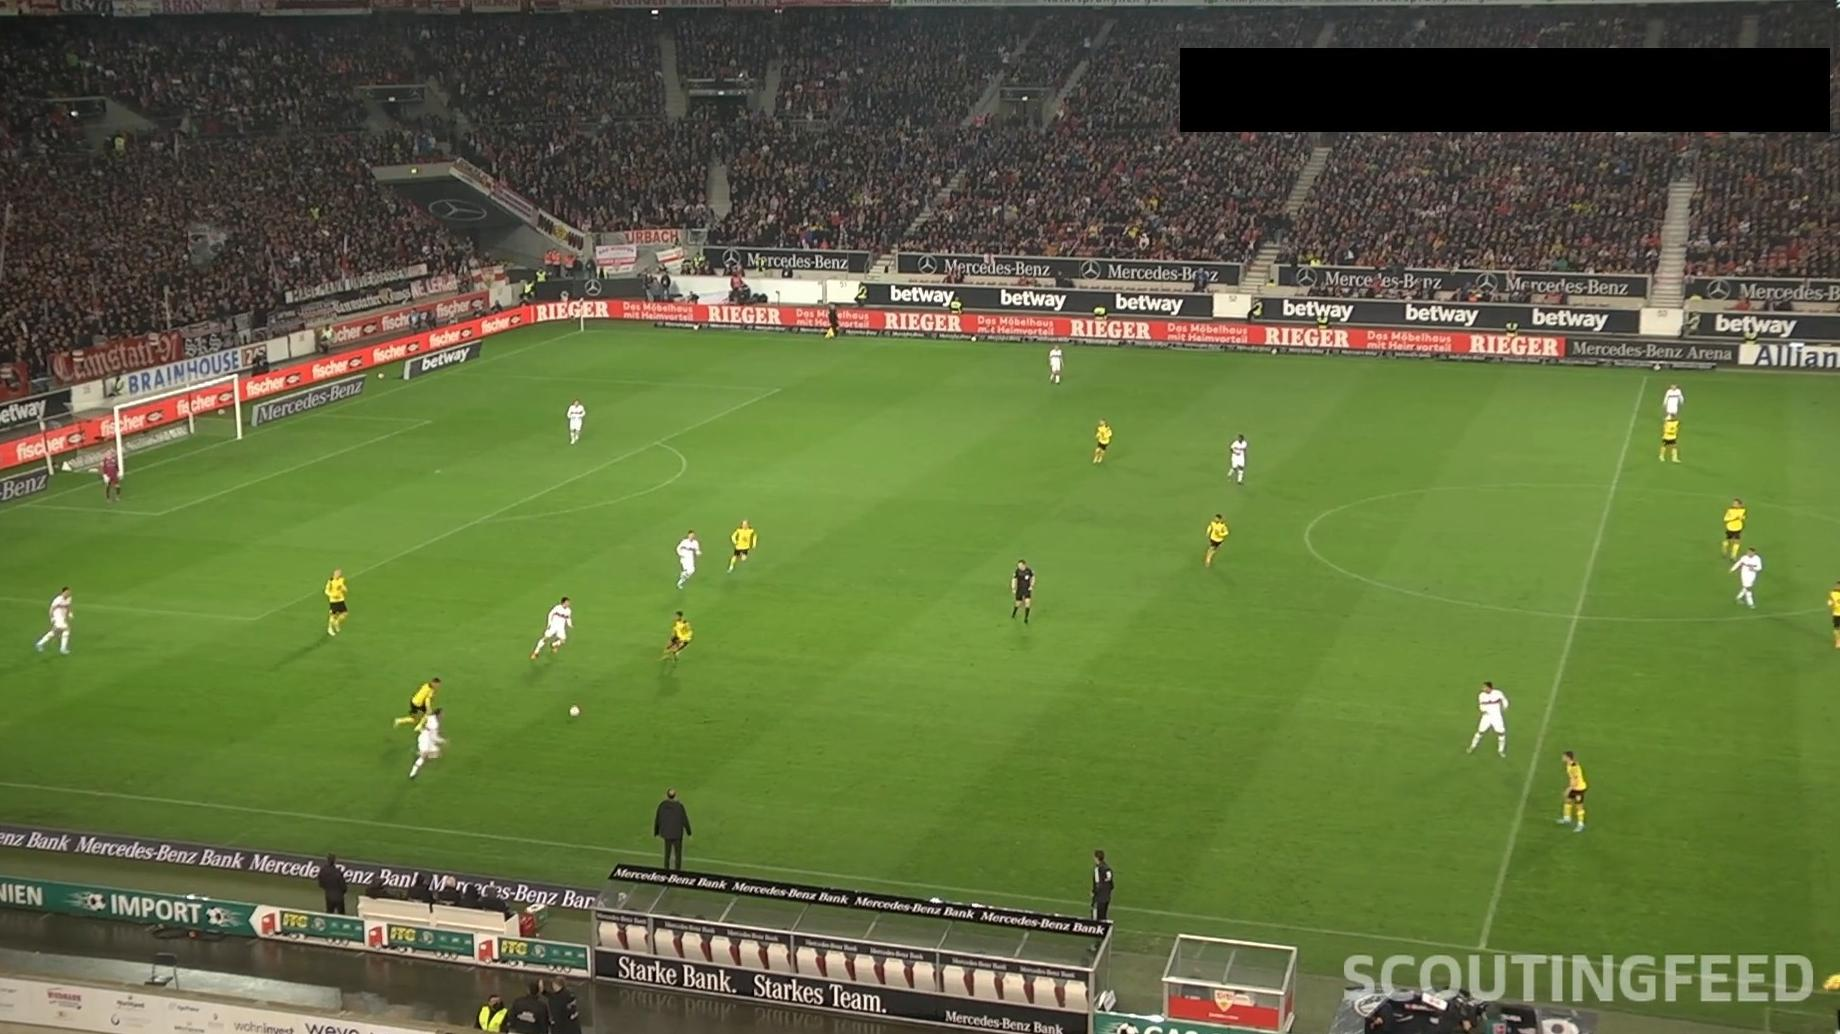ball: (569, 704, 580, 718)
